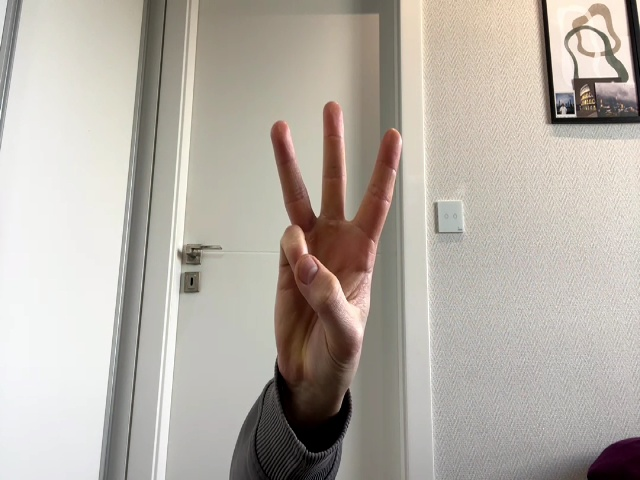W: (271, 101, 402, 381)
